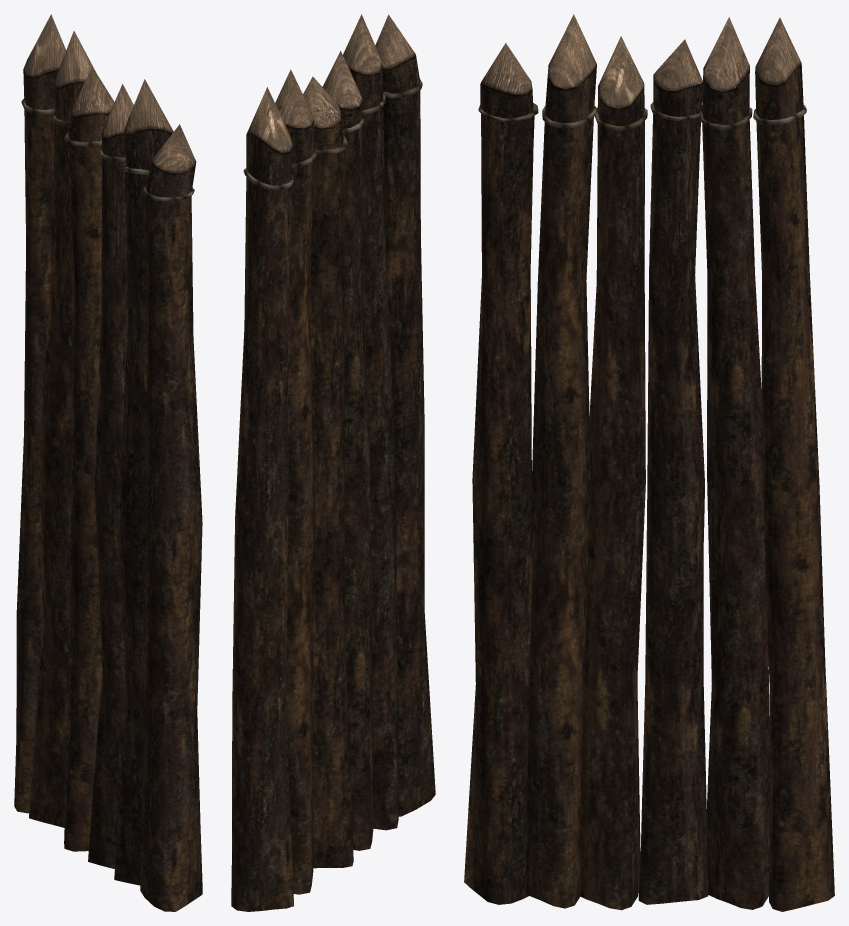
Rendered from OuterWalls.fbx.
3 renders of one model, left to right at view 1: azimuth 30°, elevation 25°; view 2: azimuth 150°, elevation 25°; view 3: azimuth 270°, elevation 25°, orthographic. The views are drawn at different scales.
Parts seen in each view (by area): view 1: OuterTownWallMesh; view 2: OuterTownWallMesh; view 3: OuterTownWallMesh.
Boxes of the visible parts, x1,y1,x2,y2 form: OuterTownWallMesh: (14, 14, 202, 911); OuterTownWallMesh: (231, 14, 435, 911); OuterTownWallMesh: (464, 14, 834, 911).
Bounding box in the file's own units: 0.00528 × 0.0598 × 0.0228.
